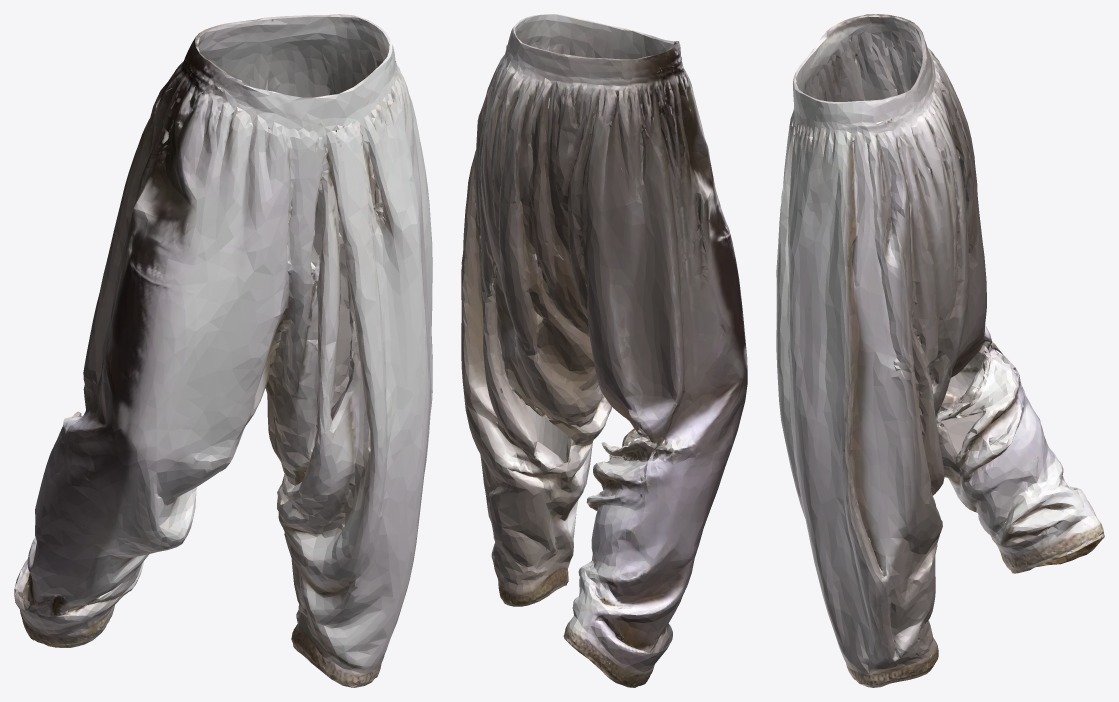
File: salwar.glb
3 views of the same model, side by side, from view 1: azimuth 30°, elevation 25°; view 2: azimuth 150°, elevation 25°; view 3: azimuth 270°, elevation 25° (orthographic). The views are drawn at different scales.
Visible parts, largest first — view 1: world; view 2: world; view 3: world.
Boxes of the visible parts, x1,y1,x2,y2 form: world: (14,14,432,687); world: (461,14,747,687); world: (776,14,1104,687).
Size of the model in its own units: 0.9879 by 1.99 by 0.9873.
1 material, 1 textured.
